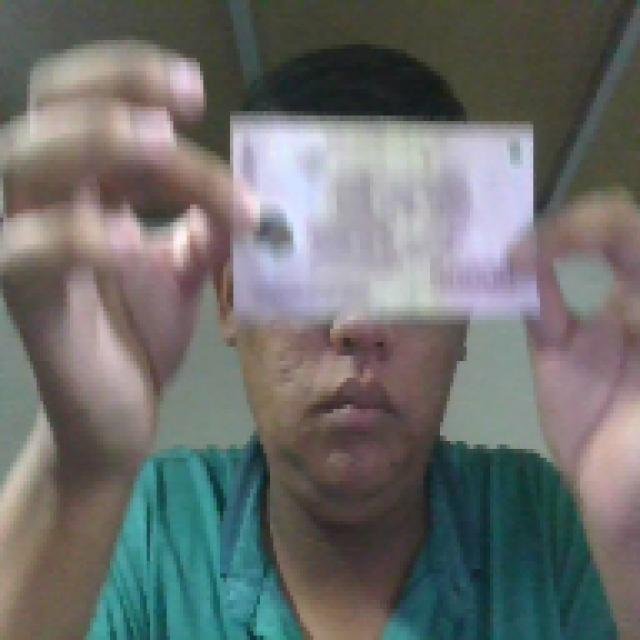50 000 VND: (227, 102, 543, 329)
